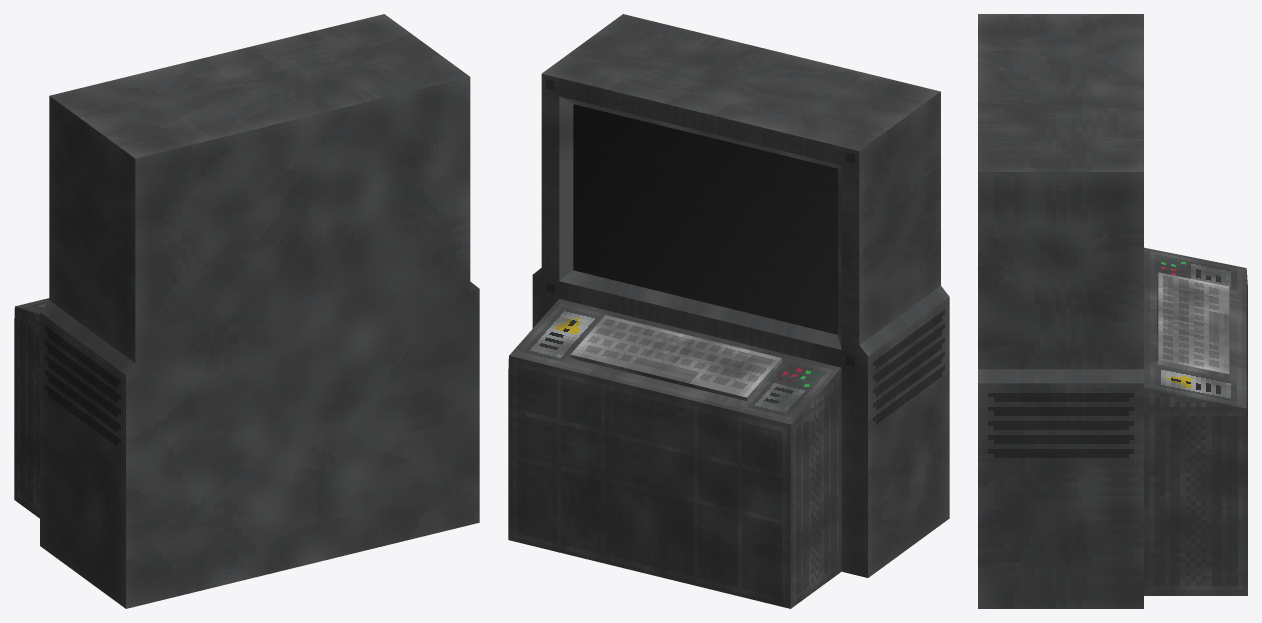
File: bigTerminal (1).gltf
3 views of the same model, side by side, from view 1: azimuth 30°, elevation 25°; view 2: azimuth 150°, elevation 25°; view 3: azimuth 270°, elevation 25° (orthographic). The views are drawn at different scales.
Parts seen in each view (by area): view 1: screen, station; view 2: screen, station, keyboard; view 3: screen, station, keyboard.
Part boxes in pixels (x1=…): screen: x1=40, y1=14, x2=479, y2=608; station: x1=14, y1=298, x2=49, y2=518; screen: x1=532, y1=14, x2=949, y2=577; station: x1=508, y1=299, x2=841, y2=608; keyboard: x1=570, y1=315, x2=782, y2=401; screen: x1=978, y1=14, x2=1143, y2=608; station: x1=1144, y1=247, x2=1247, y2=595; keyboard: x1=1157, y1=272, x2=1229, y2=378.
Size of the model in its own units: 2.38 by 2.88 by 1.62.
1 material, 1 textured.
